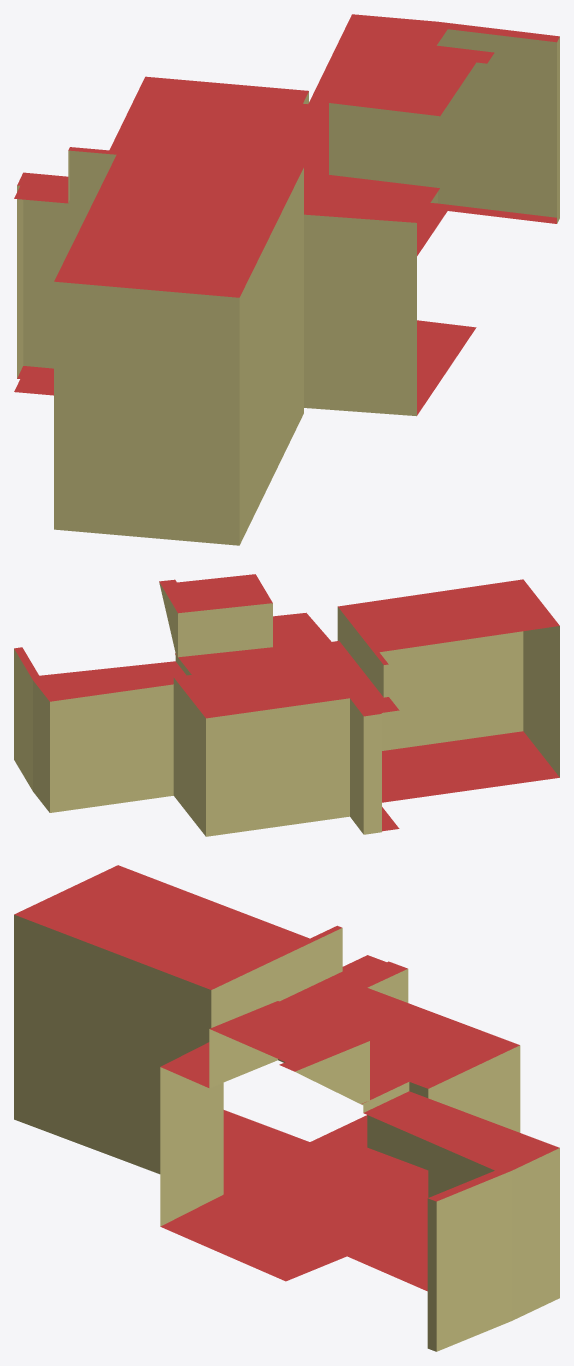
3 renders of one model, top to bottom at view 1: azimuth 30°, elevation 25°; view 2: azimuth 150°, elevation 25°; view 3: azimuth 270°, elevation 25°, orthographic. The views are drawn at different scales.
Bounding box in the file's own units: 28.12 × 23.02 × 10.2.
